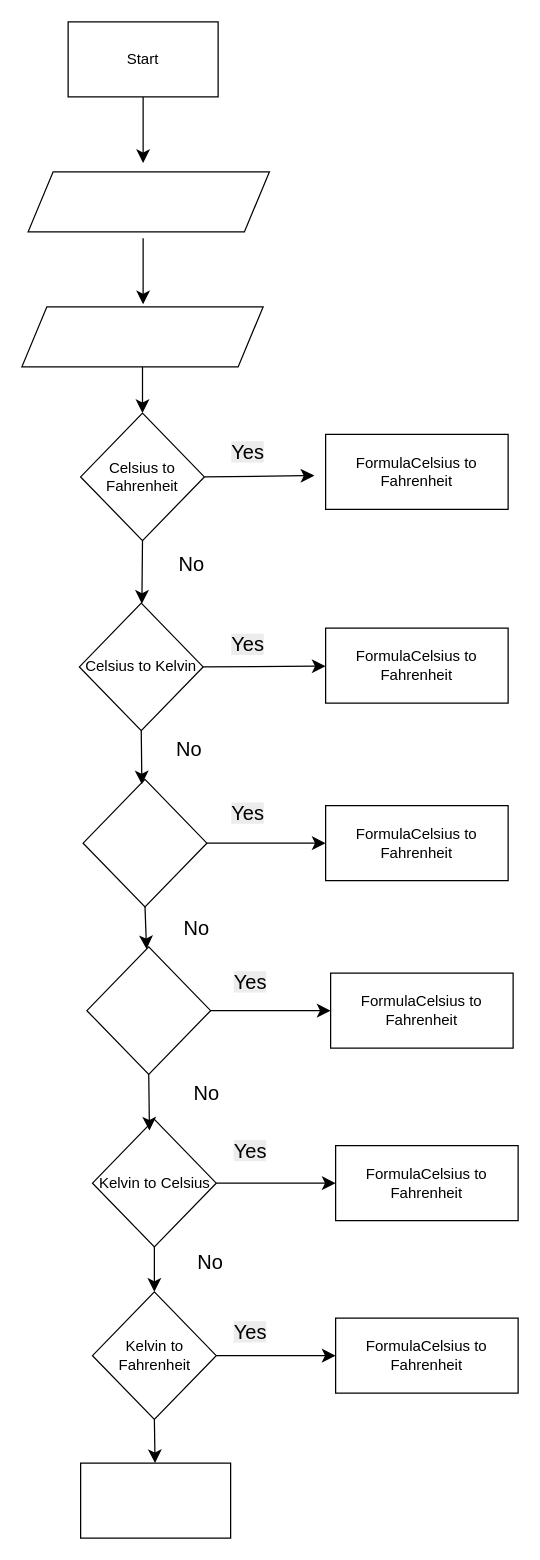
Some shapes in this 540 by 1560 pixel diagram are drawn without their labels. Each missing label, with the centre of its shape:
End: (x=155, y=1500)
Fahrenheit to Celsius: (x=144, y=842)
Fahrenheit to Kelvin: (x=148, y=1010)
Input temperature: (x=142, y=336)
Select conversion type ( 1 – 6 ): (x=148, y=201)
